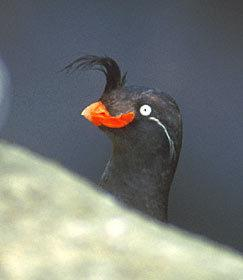005.Crested_Auklet: (58, 54, 183, 228)
